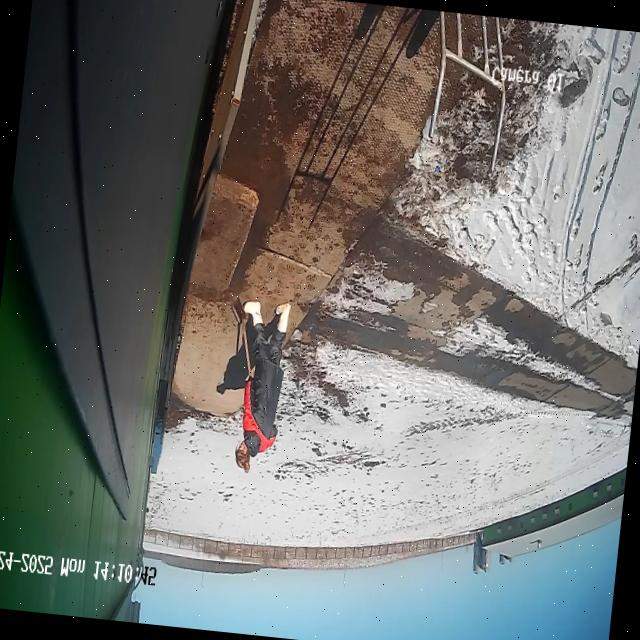Red uniform: (224, 295, 292, 478)
